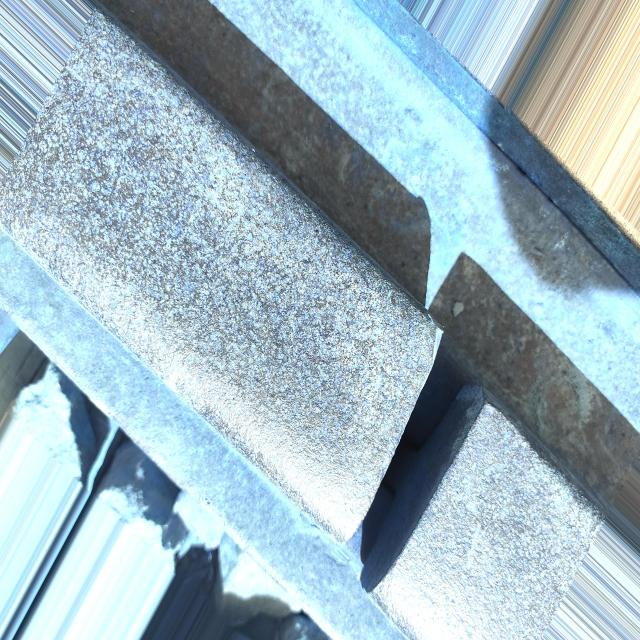crack: (302, 319, 524, 605)
